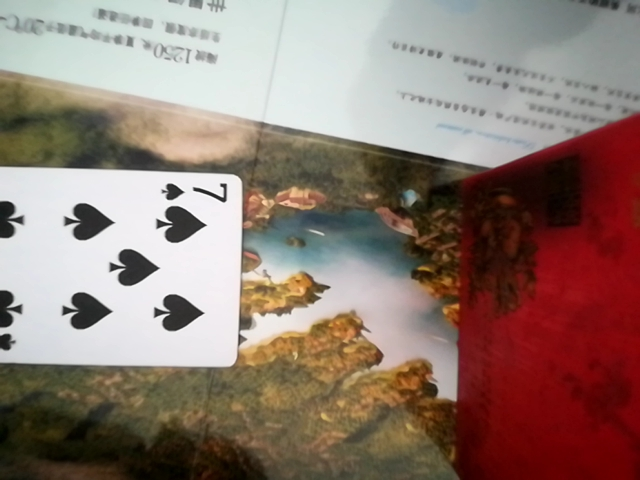ht 7: (0, 163, 249, 371)
